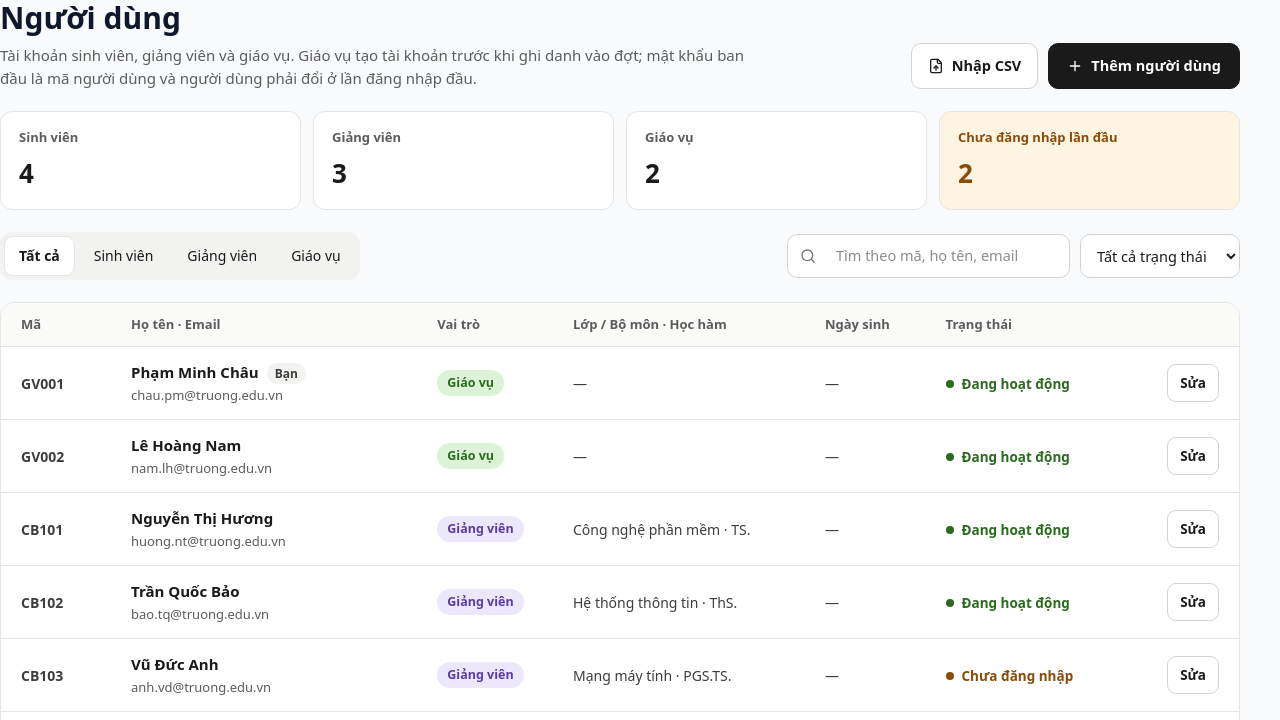
Test: shows required-field errors and the role-specific fields in the add drawer
This screenshot has width=1280, height=720.
Step 1. Click the button "Thêm người dùng" → [1144, 66], box [1048, 43, 1240, 89]
(page scrolled)
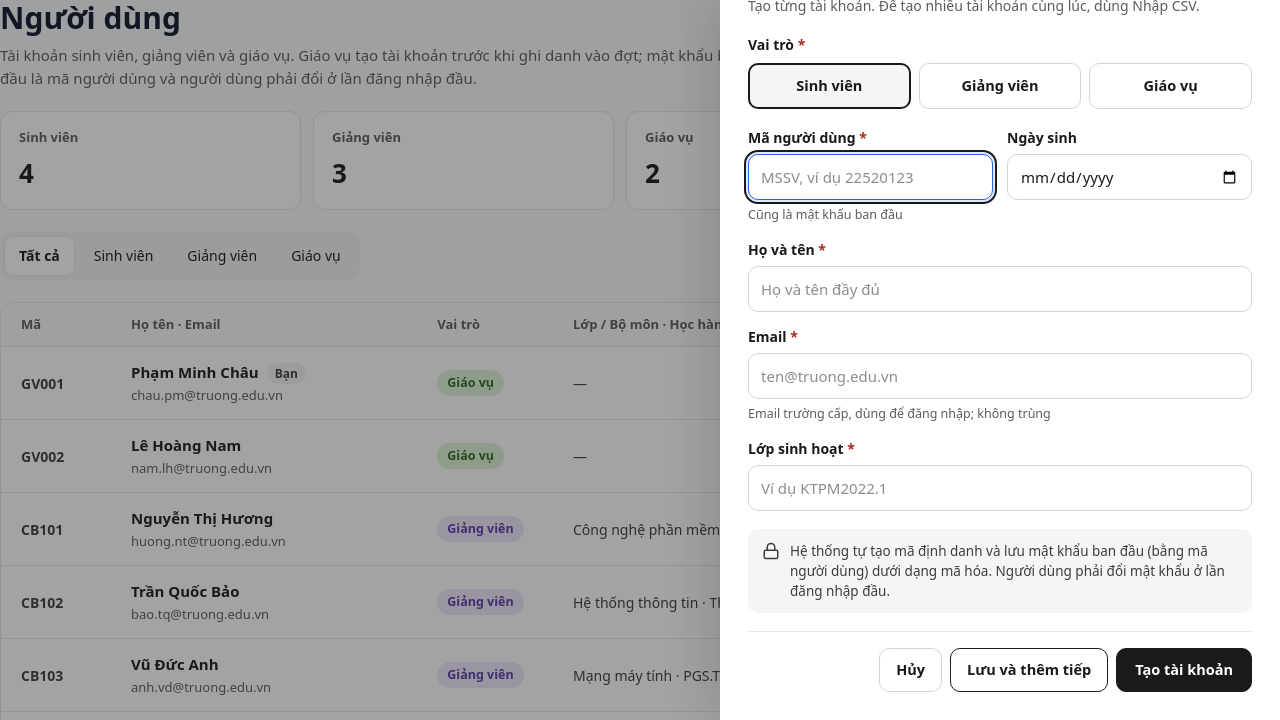
Expected: the field labelled "Lớp sinh hoạt *" is shown, [748, 464, 1252, 510]
Step 2. Click the button "Tạo tài khoản" → [1184, 670], box [1116, 648, 1252, 692]
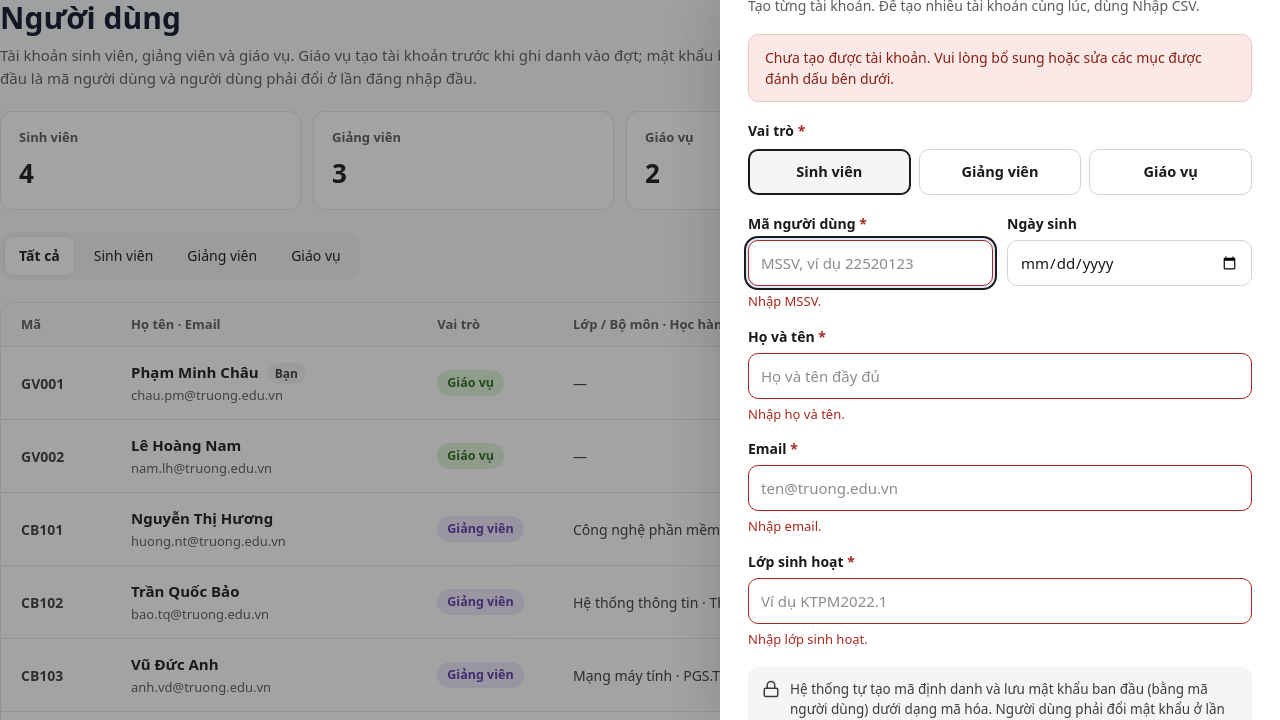
Expected: the text "Nhập MSSV." is shown, [748, 292, 821, 310]
Expected: the text "Nhập lớp sinh hoạt." is shown, [748, 630, 868, 648]
Expected: the message shows "Chưa tạo được tài khoản.", [765, 48, 1202, 88]
Step 3. Click the button "Giảng viên" → [1000, 172], box [919, 149, 1081, 195]
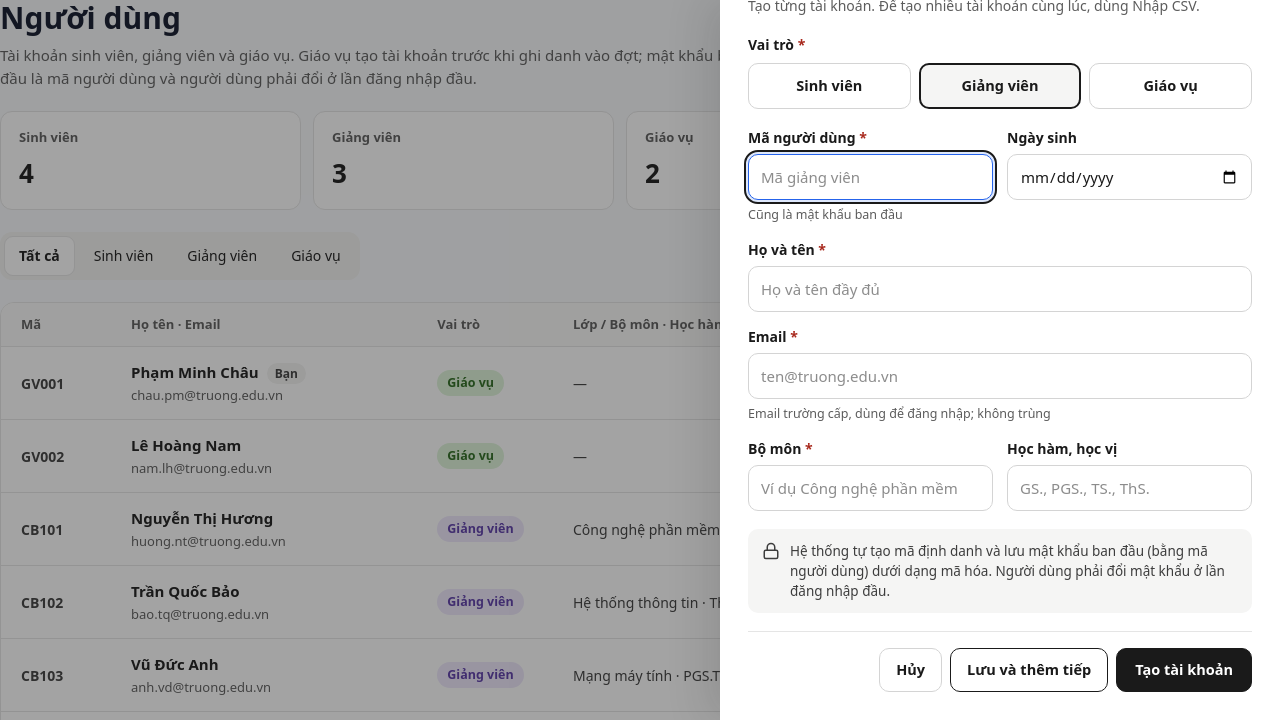
Expected: the field labelled "Bộ môn *" is shown, [748, 464, 993, 510]
Expected: the field labelled "Học hàm, học vị" is shown, [1007, 464, 1252, 510]
Expected: the label labelled "Lớp sinh hoạt" is gone
